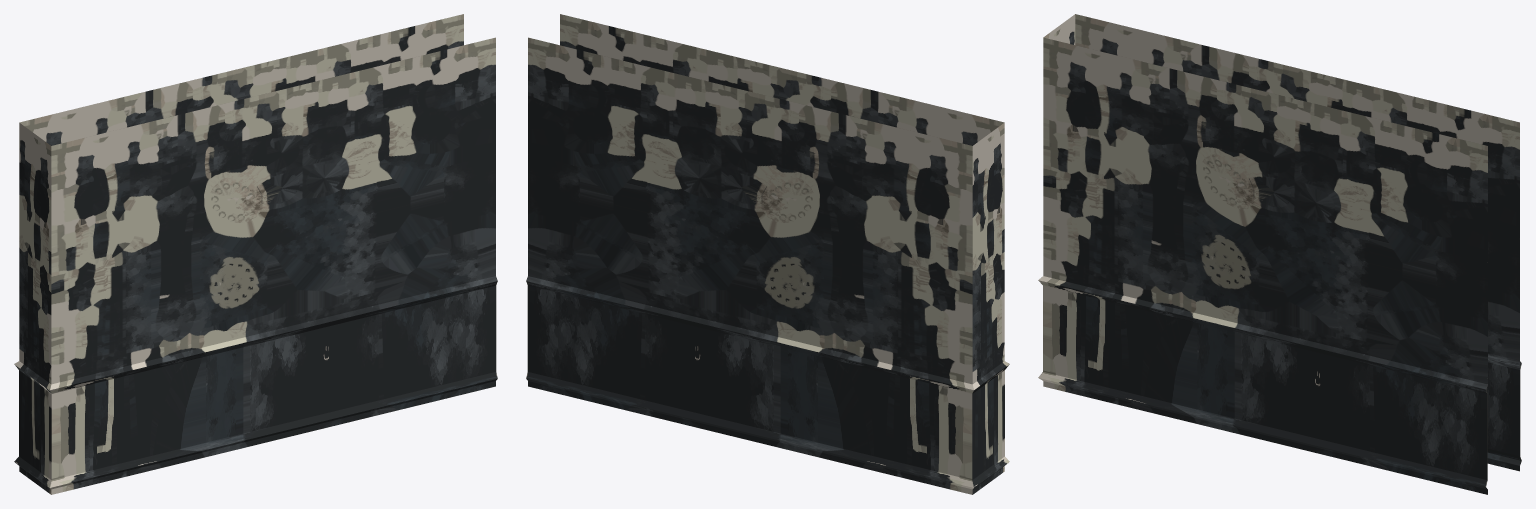
File: kitchen_wall_4.fbx
The picture shows the model from 3 angles, left to right: view 1: azimuth 30°, elevation 25°; view 2: azimuth 150°, elevation 25°; view 3: azimuth 330°, elevation 25°; orthographic projection.
Visible parts, largest first — view 1: kitchen wall 4; view 2: kitchen wall 4; view 3: kitchen wall 4.
Boxes of the visible parts, x1,y1,x2,y2 form: kitchen wall 4: (14,14,497,494); kitchen wall 4: (526,14,1009,494); kitchen wall 4: (1038,14,1521,494).
Size of the model in its own units: 806 by 600 by 112.
